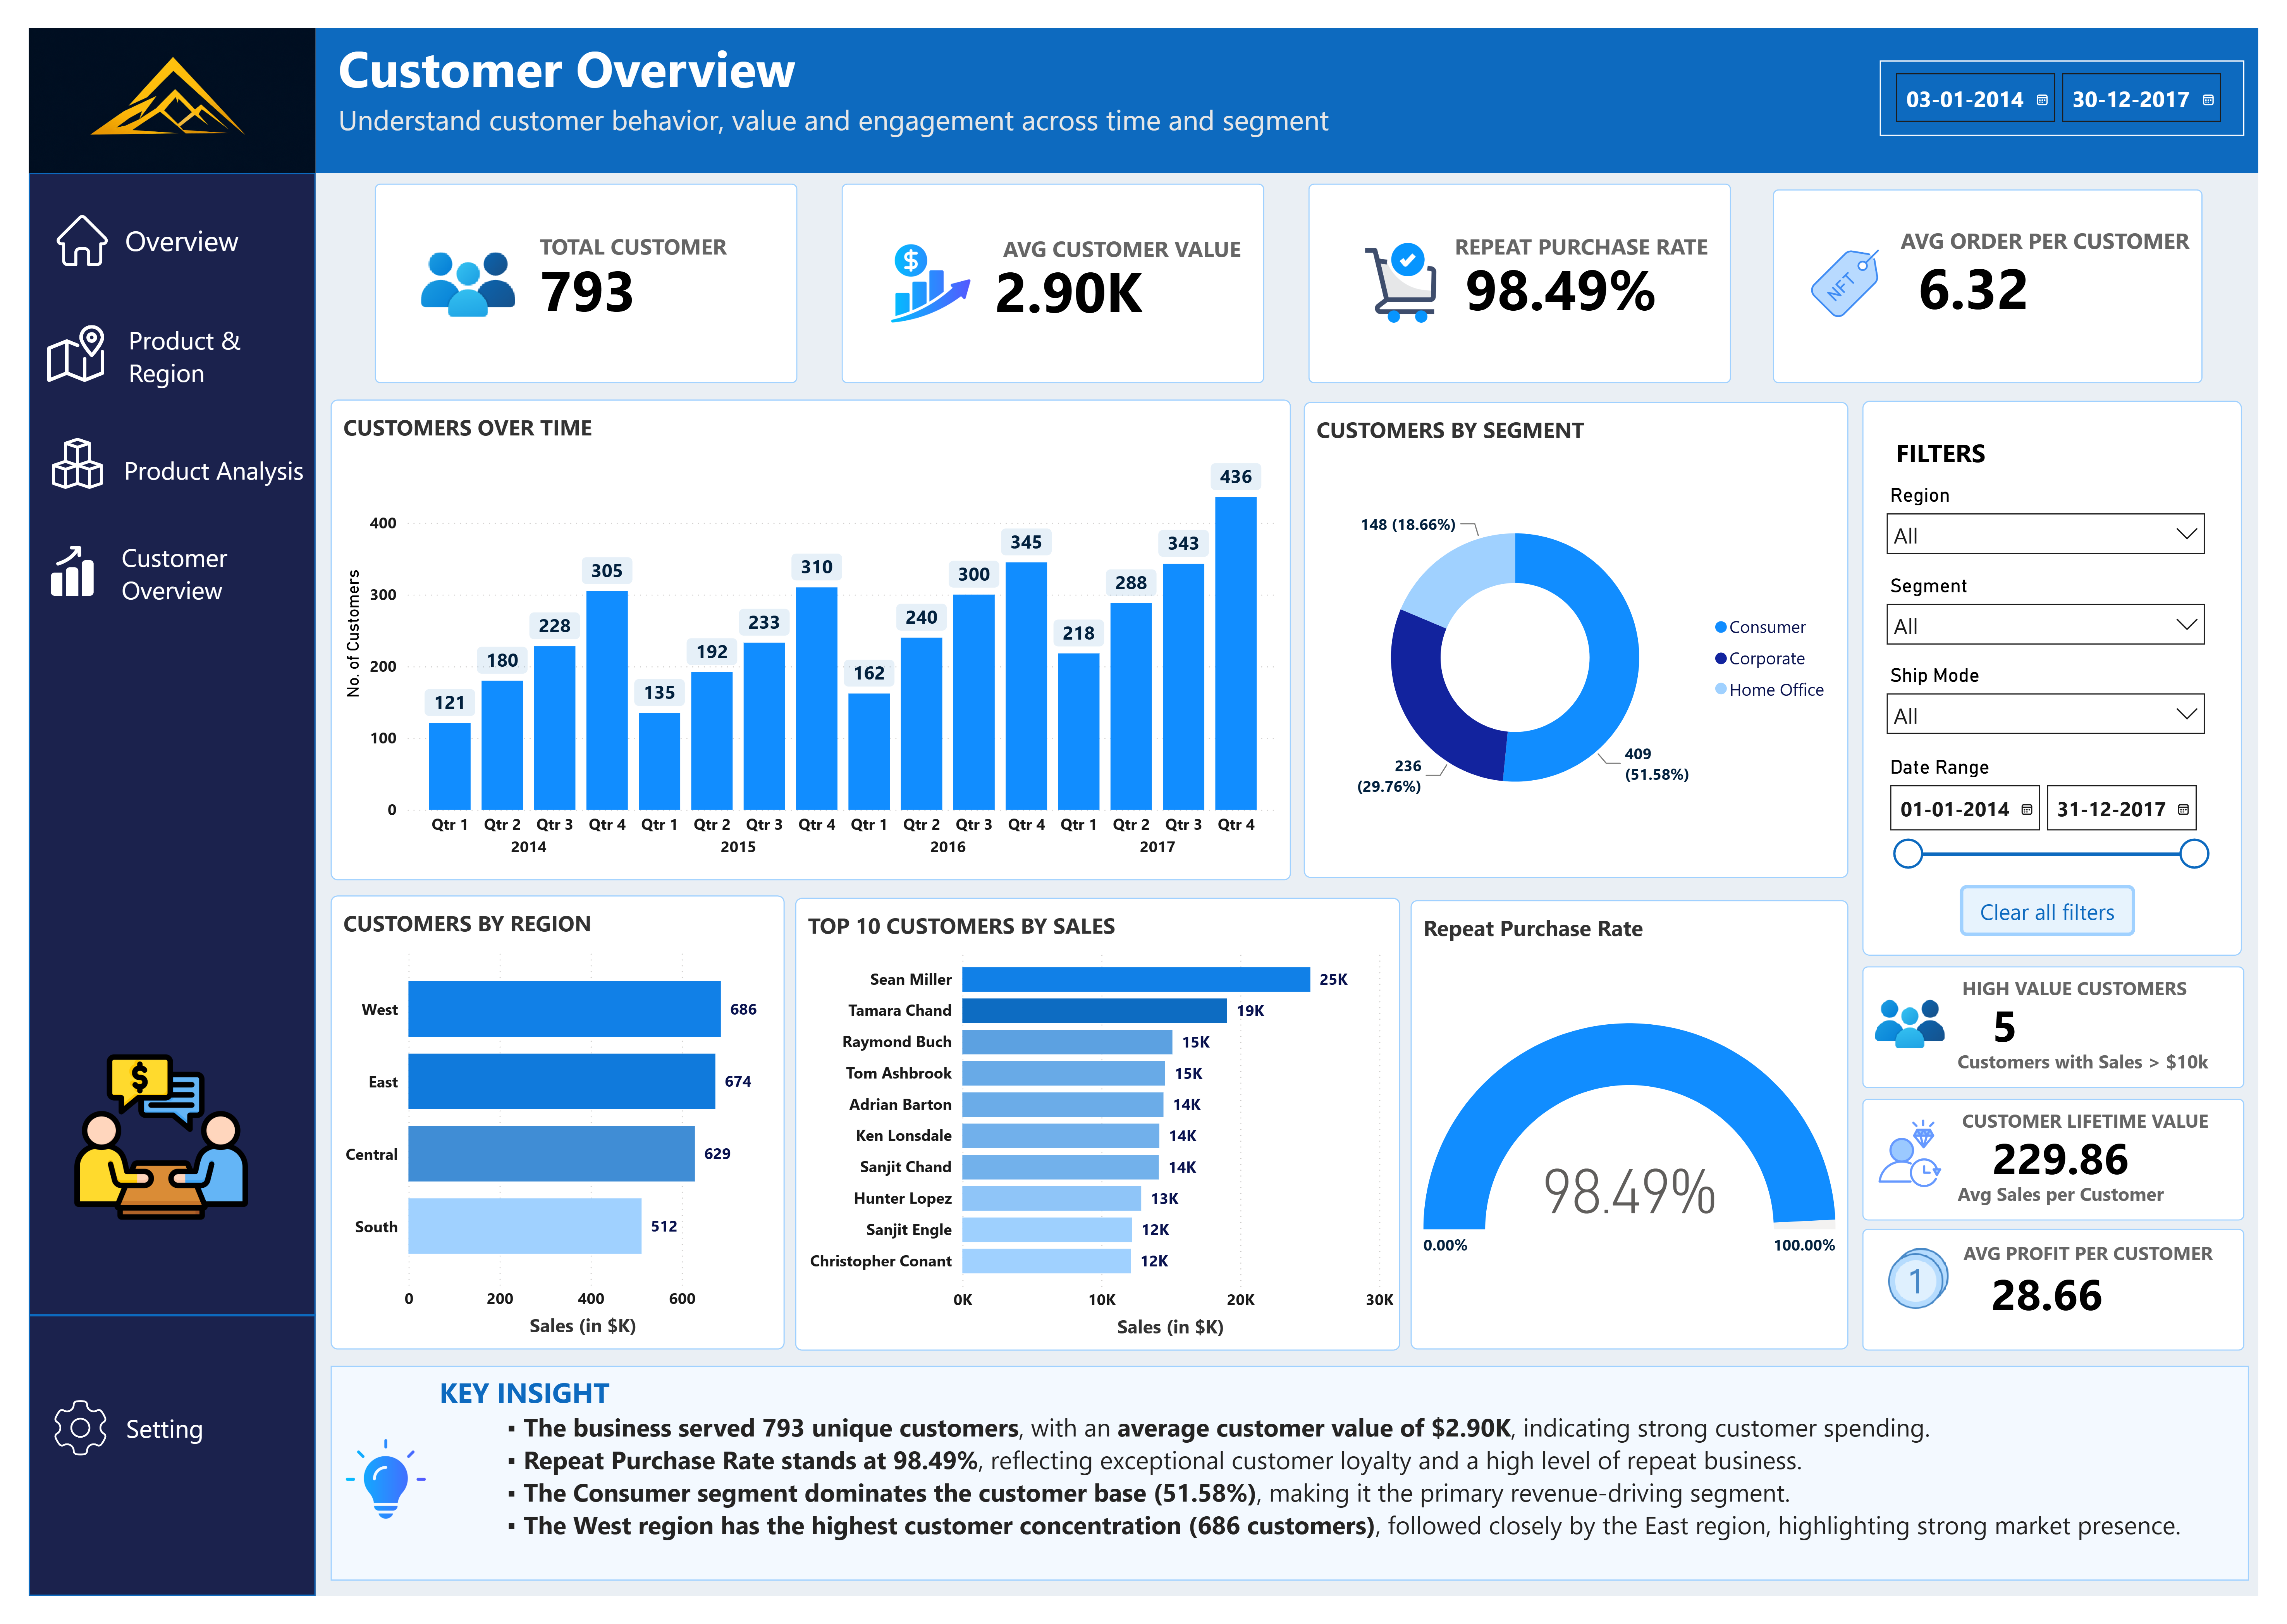

What the dashboard file says about the page in this screenshot:
{"tool":"powerbi","page":{"name":"CustomerOverview","canvas":[1920,1350],"ordinal":3},"visuals":[{"type":"textbox","box":[247.1,0,1674.7,124.6],"z":0},{"type":"group","id":"g1","title":"Group 2","box":[298.3,134.3,1588.6,172.2],"z":0,"group":"g2"},{"type":"shape","box":[298.3,134.3,363.7,172],"z":0,"group":"g1"},{"type":"image","box":[6,161.3,80,43.6],"z":0,"group":"g7"},{"type":"image","box":[7.2,256.4,67.2,49.1],"z":0,"group":"g4"},{"type":"image","box":[4,352.8,76.3,43.6],"z":0,"group":"g6"},{"type":"image","box":[5.5,443.5,65.4,49.1],"z":0,"group":"g5"},{"type":"shape","box":[1579.4,808.4,329,105.4],"z":0,"group":"g9"},{"type":"shape","box":[1579.4,921.5,329,105.4],"z":0,"group":"g8"},{"type":"shape","box":[1579.4,1034.1,329,105.4],"z":0,"group":"g10"},{"type":"textbox","box":[259.9,1152.3,1652.1,185.4],"z":0,"group":"g3"},{"type":"shape","box":[700.5,134.3,363.7,172],"z":1000,"group":"g1"},{"type":"textbox","box":[77.5,161.5,145,48],"z":1000,"group":"g7"},{"type":"image","box":[338.7,175.9,81.1,84.6],"z":1000,"group":"g2"},{"type":"textbox","box":[81.3,249.1,172.7,76.3],"z":1000,"group":"g4"},{"type":"columnChart","title":"CUSTOMERS OVER TIME","fields":{"Y":["Count(Superstore.Customer ID)"],"Category":["Superstore.Order Date.Variation.Date Hierarchy.Year","Superstore.Order Date.Variation.Date Hierarchy.Quarter"]},"box":[259.9,319.9,827.3,414.4],"z":1000},{"type":"textbox","box":[76.7,360.7,174.5,56.3],"z":1000,"group":"g6"},{"type":"textbox","box":[76,436.2,171.2,85.4],"z":1000,"group":"g5"},{"type":"textbox","box":[1660.5,811.1,238.1,38.2],"z":1000,"group":"g9"},{"type":"textbox","box":[1660.5,924.2,238.1,38.2],"z":1000,"group":"g8"},{"type":"textbox","box":[1661.2,1039.6,238.1,38.2],"z":1000,"group":"g10"},{"type":"image","box":[267.8,1186.6,79,127],"z":1000,"group":"g3"},{"type":"shape","box":[1102.7,134.3,363.7,172],"z":2000,"group":"g1"},{"type":"image","box":[728.4,181.5,97.5,77.3],"z":2000,"group":"g2"},{"type":"shape","box":[1578.7,321.1,327.1,478],"z":2000},{"type":"cardVisual","fields":{"Data":["Count(Superstore.Customer ID)"]},"box":[1662.3,819.8,183.6,74.5],"z":2000,"group":"g9"},{"type":"cardVisual","fields":{"Data":["Avg(Superstore.Sales)"]},"box":[1662.3,932.9,183.6,74.5],"z":2000,"group":"g8"},{"type":"cardVisual","fields":{"Data":["Avg(Superstore.Profit)"]},"box":[1661.2,1052.3,183.6,70.9],"z":2000,"group":"g10"},{"type":"slicer","fields":{"Values":["Superstore.Order Date"]},"box":[1593.6,27.7,314.4,65.2],"z":3000},{"type":"shape","box":[1502.8,139.3,370,167.2],"z":3000,"group":"g1"},{"type":"image","box":[1138.4,185.1,86,69.2],"z":3000,"group":"g2"},{"type":"textbox","box":[1656.9,874.3,238.1,38.2],"z":3000,"group":"g9"},{"type":"textbox","box":[1656.9,987.4,238.1,38.2],"z":3000,"group":"g8"},{"type":"cardVisual","fields":{"Data":["Count(Superstore.Customer ID)"]},"box":[411.3,154.9,231.4,135.2],"z":4000,"group":"g1"},{"type":"image","box":[1534.2,183.4,60,72.7],"z":4000,"group":"g2"},{"type":"clusteredBarChart","title":"TOP 10 CUSTOMERS BY SALES","fields":{"Y":["Sum(Superstore.Sales)"],"Category":["Superstore.Customer Name"]},"box":[659.7,748.8,521.6,390.4],"z":4000},{"type":"image","box":[0,0,247.1,124.6],"z":5000},{"type":"textbox","box":[435,170,189,40],"z":5000,"group":"g1"},{"type":"group","id":"g2","title":"Group 6","box":[298.3,134.3,1588.6,172.2],"z":6000},{"type":"cardVisual","fields":{"Data":["Superstore.Avg Customer Value"]},"box":[803,144.7,259.9,158.1],"z":6000,"group":"g1"},{"type":"textbox","box":[834,172,219.9,47.3],"z":7000,"group":"g1"},{"type":"group","id":"g3","title":"Group 8","box":[259.9,1152.3,1652.1,185.4],"z":7000},{"type":"shape","box":[0,125,247.2,1225],"z":8000},{"type":"cardVisual","fields":{"Data":["Superstore.Repeat Purchase Rate"]},"box":[1208.3,143.4,234,156.5],"z":8000,"group":"g1"},{"type":"cardVisual","fields":{"Data":["Superstore.Avg Orders per Customer"]},"box":[1598.2,147.7,234,147.2],"z":9000,"group":"g1"},{"type":"group","id":"g4","title":"Group 2","box":[7.2,249.1,246.8,76.3],"z":9000},{"type":"textbox","box":[1607,165,279.9,40],"z":10000,"group":"g1"},{"type":"group","id":"g5","title":"Group 4","box":[5.5,436.2,241.7,85.4],"z":10000},{"type":"textbox","box":[1222.9,170,240,40],"z":11000,"group":"g1"},{"type":"slicer","fields":{"Values":["Superstore.Ship Mode"]},"box":[1590.3,541.6,293.6,71.1],"z":11000},{"type":"group","id":"g6","title":"Group 4","box":[4,352.8,247.2,64.2],"z":12000},{"type":"group","id":"g7","title":"Group 5","box":[6,161.3,216.5,48.2],"z":13000},{"type":"image","box":[19.8,879.8,187.8,150.3],"z":14000},{"type":"image","box":[19.8,1166.5,49.4,77.1],"z":15000},{"type":"textbox","box":[73.2,1186.3,152.2,51.4],"z":16000},{"type":"shape","box":[0,1079.5,247.1,57.3],"z":17000},{"type":"donutChart","title":"CUSTOMERS BY SEGMENT","fields":{"Y":["Count(Superstore.Customer ID)"],"Category":["Superstore.Segment"]},"box":[1097.7,321.7,468.9,410.7],"z":18000},{"type":"slicer","fields":{"Values":["Superstore.Region"]},"box":[1589.6,386.5,294.4,80],"z":19000},{"type":"clusteredBarChart","title":"CUSTOMERS BY REGION","fields":{"Y":["Count(Superstore.Customer ID)"],"Category":["Superstore.Region"]},"box":[259.9,747,390.8,391.5],"z":20000},{"type":"gauge","fields":{"Y":["Superstore.Repeat Purchase Rate"]},"box":[1190.4,750.6,376.2,387.1],"z":21000},{"type":"textbox","box":[1602.7,346.3,118.5,64.6],"z":22000},{"type":"group","id":"g8","title":"Group 3","box":[1579.4,921.5,329,105.4],"z":23000},{"type":"group","id":"g9","title":"Group 3","box":[1579.4,808.4,329,105.4],"z":24000},{"type":"group","id":"g10","title":"Group 3","box":[1579.4,1034.1,329,105.4],"z":25000},{"type":"slicer","fields":{"Values":["Superstore.Segment"]},"box":[1589.6,464.7,294.4,74.5],"z":26000},{"type":"image","box":[1590.3,932.4,60,72.7],"z":27000},{"type":"slicer","fields":{"Values":["Date Table.Date"]},"box":[1589.6,621,296.2,179.9],"z":28000},{"type":"image","box":[1590.3,819.7,60,72.7],"z":29000},{"type":"image","box":[1597.5,1039.6,60,72.7],"z":30000},{"type":"actionButton","box":[1663,737.9,150.8,43.6],"z":31000}]}

Visuals, with their boxes in screenshot pixels (x1, y1, x2, y2), scaled from the page's 1920x1350 canvas onto the 2287x1624 screenshot:
textbox: 294:0:2287:150
"Group 2" group: 355:162:2247:369
shape: 355:162:789:368
image: 7:194:102:246
image: 9:308:89:368
image: 5:425:96:477
image: 7:533:84:593
shape: 1881:972:2273:1099
shape: 1881:1108:2273:1235
shape: 1881:1244:2273:1371
textbox: 310:1386:2277:1609
shape: 834:162:1267:368
textbox: 92:194:265:252
image: 404:212:500:313
textbox: 97:300:303:391
"CUSTOMERS OVER TIME" columnChart: 310:385:1295:883
textbox: 91:434:299:502
textbox: 91:525:294:628
textbox: 1978:976:2261:1022
textbox: 1978:1112:2261:1158
textbox: 1979:1251:2262:1297
image: 319:1428:413:1580
shape: 1314:162:1747:368
image: 868:218:984:311
shape: 1881:386:2270:961
cardVisual - Count(Superstore.Customer ID): 1980:986:2199:1076
cardVisual - Avg(Superstore.Sales): 1980:1122:2199:1212
cardVisual - Avg(Superstore.Profit): 1979:1266:2198:1351
slicer - Superstore.Order Date: 1898:33:2273:112
shape: 1790:168:2231:369
image: 1356:223:1458:306
textbox: 1974:1052:2257:1098
textbox: 1974:1188:2257:1234
cardVisual - Count(Superstore.Customer ID): 490:186:765:349
image: 1828:220:1899:308
"TOP 10 CUSTOMERS BY SALES" clusteredBarChart: 786:901:1407:1370
image: 0:0:294:150
textbox: 518:205:743:253
"Group 6" group: 355:162:2247:369
cardVisual - Superstore.Avg Customer Value: 956:174:1266:364
textbox: 994:207:1255:264
"Group 8" group: 310:1386:2277:1609
shape: 0:150:294:1624
cardVisual - Superstore.Repeat Purchase Rate: 1439:172:1718:361
cardVisual - Superstore.Avg Orders per Customer: 1904:178:2182:355
"Group 2" group: 9:300:303:391
textbox: 1914:198:2247:247
"Group 4" group: 7:525:294:628
textbox: 1456:205:1742:253
slicer - Superstore.Ship Mode: 1894:652:2244:737
"Group 4" group: 5:425:299:502
"Group 5" group: 7:194:265:252
image: 24:1058:247:1239
image: 24:1403:83:1496
textbox: 87:1427:268:1489
shape: 0:1299:294:1368
"CUSTOMERS BY SEGMENT" donutChart: 1307:387:1866:881
slicer - Superstore.Region: 1893:465:2244:561
"CUSTOMERS BY REGION" clusteredBarChart: 310:899:775:1369
gauge - Superstore.Repeat Purchase Rate: 1418:903:1866:1369
textbox: 1909:416:2050:494
"Group 3" group: 1881:1108:2273:1235
"Group 3" group: 1881:972:2273:1099
"Group 3" group: 1881:1244:2273:1371
slicer - Superstore.Segment: 1893:559:2244:649
image: 1894:1122:1966:1209
slicer - Date Table.Date: 1893:747:2246:963
image: 1894:986:1966:1073
image: 1903:1251:1974:1338
actionButton: 1981:888:2160:940
